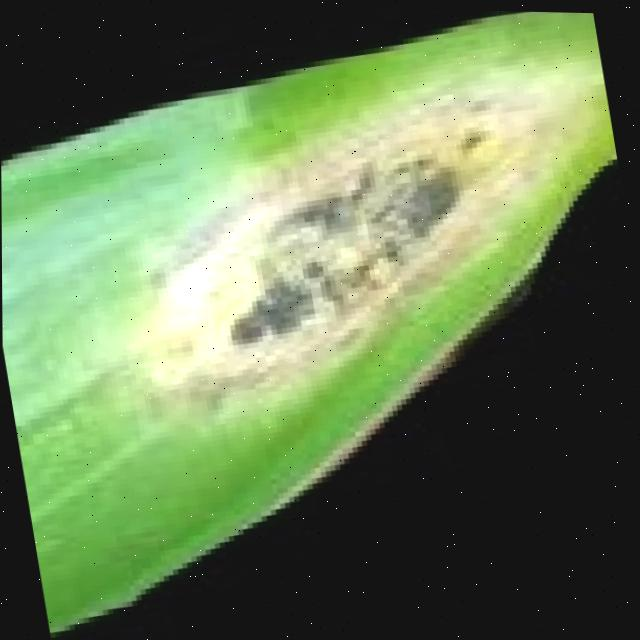mite: (195, 143, 481, 360), (213, 276, 319, 355), (449, 128, 489, 163), (223, 314, 263, 349), (296, 258, 330, 287)
sunburn: (0, 7, 640, 640)
